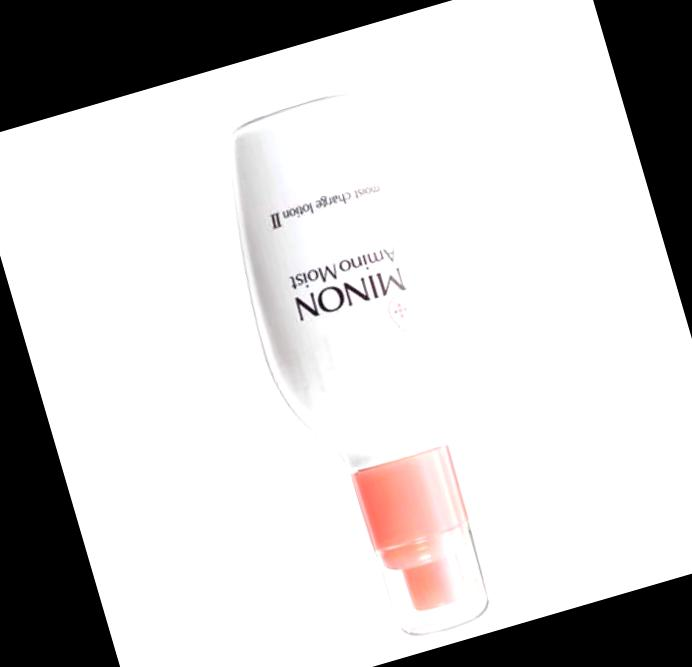cosmetic: (197, 73, 547, 662)
